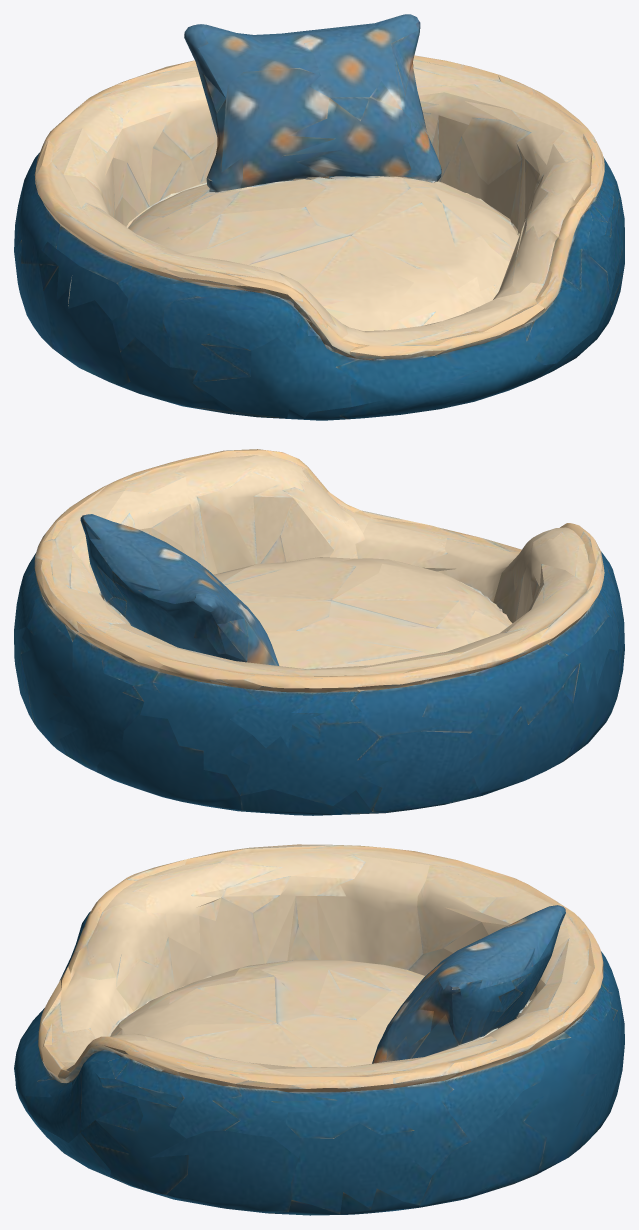
The model's file is home_bed.fbx.
The picture shows the model from 3 angles, top to bottom: view 1: azimuth 30°, elevation 25°; view 2: azimuth 150°, elevation 25°; view 3: azimuth 270°, elevation 25°; orthographic projection.
Parts seen in each view (by area): view 1: Mesh_0; view 2: Mesh_0; view 3: Mesh_0.
Part boxes in pixels (bbox=[...]): Mesh_0: bbox=[14, 14, 624, 420]; Mesh_0: bbox=[14, 449, 624, 815]; Mesh_0: bbox=[14, 844, 624, 1215].
Size of the model in its own units: 1.9 by 0.6527 by 1.9.
Materials: 1 (1 with a texture image).
